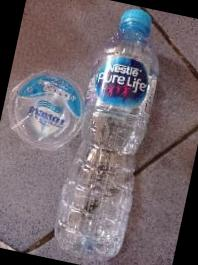Plastik: (55, 7, 158, 259), (8, 71, 82, 150)
